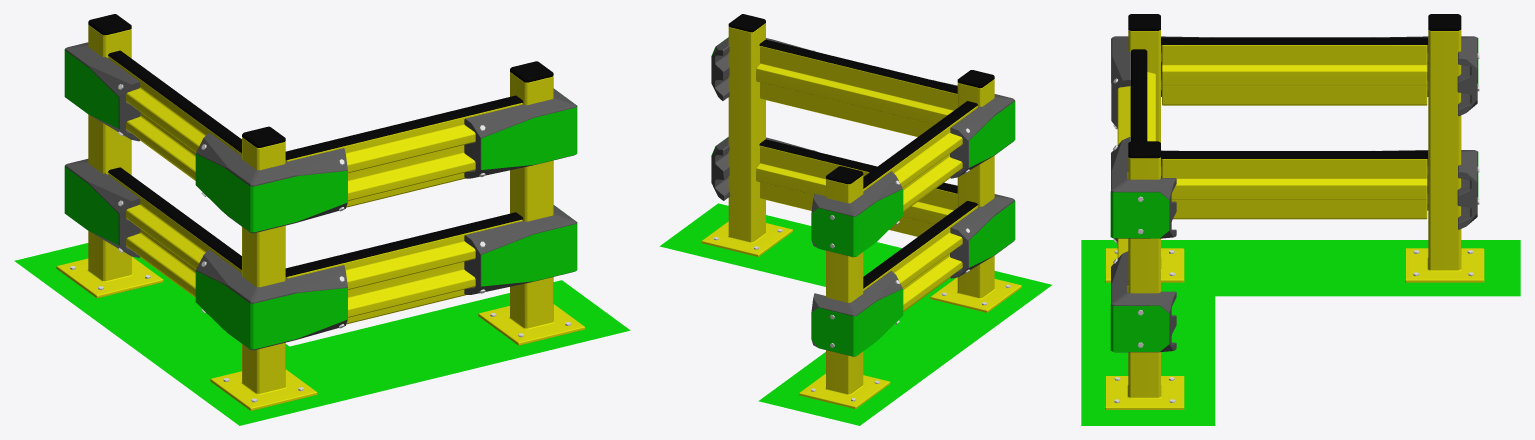
The model's file is cornerFence.fbx.
3 renders of one model, left to right at view 1: azimuth 30°, elevation 25°; view 2: azimuth 150°, elevation 25°; view 3: azimuth 270°, elevation 25°, orthographic. The views are drawn at different scales.
Parts seen in each view (by area): view 1: shdw_decal, corner_beads_decals, sidings, legs, corner_beads, plastic_caps, bolts; view 2: sidings, legs, shdw_decal, corner_beads_decals, corner_beads, plastic_caps, bolts; view 3: sidings, shdw_decal, legs, corner_beads, plastic_caps, corner_beads_decals, bolts.
Boxes of the visible parts, box(x1,y1,x2,y2) form: shdw_decal: box(14, 243, 630, 425); corner_beads_decals: box(64, 48, 577, 349); sidings: box(108, 56, 522, 324); legs: box(56, 25, 585, 410); corner_beads: box(65, 42, 576, 350); plastic_caps: box(88, 14, 553, 276); bolts: box(70, 84, 570, 402); sidings: box(756, 46, 977, 311); legs: box(701, 23, 1021, 408); shdw_decal: box(659, 203, 1051, 425); corner_beads_decals: box(711, 37, 1015, 356); corner_beads: box(711, 37, 1014, 356); plastic_caps: box(728, 14, 994, 288); bolts: box(714, 50, 1010, 401); sidings: box(1117, 45, 1427, 292); shdw_decal: box(1081, 240, 1520, 425); legs: box(1105, 30, 1484, 409); corner_beads: box(1111, 36, 1477, 352); plastic_caps: box(1128, 14, 1461, 158); corner_beads_decals: box(1110, 37, 1478, 351); bolts: box(1113, 37, 1479, 402).
Bounding box in the file's own units: 189 × 117 × 188.
